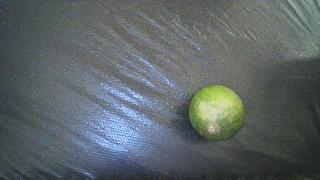DESECHO: (189, 85, 245, 141)
